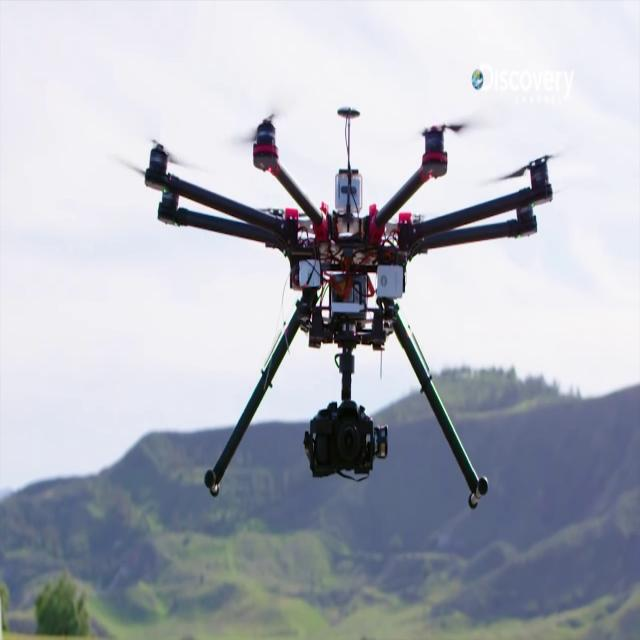drone: (116, 51, 633, 592)
